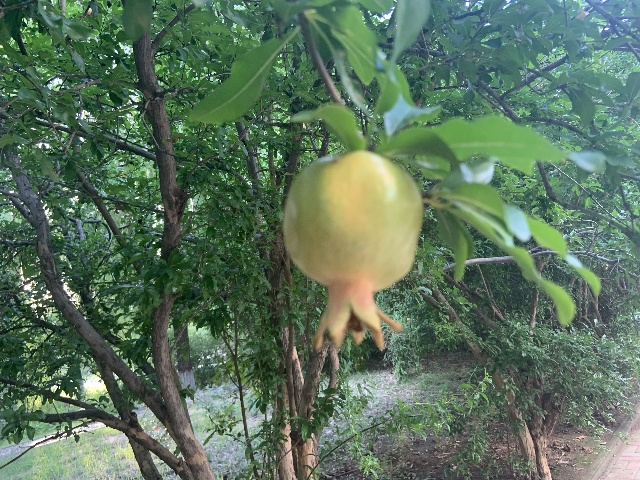mid-growth: (282, 150, 423, 352)
